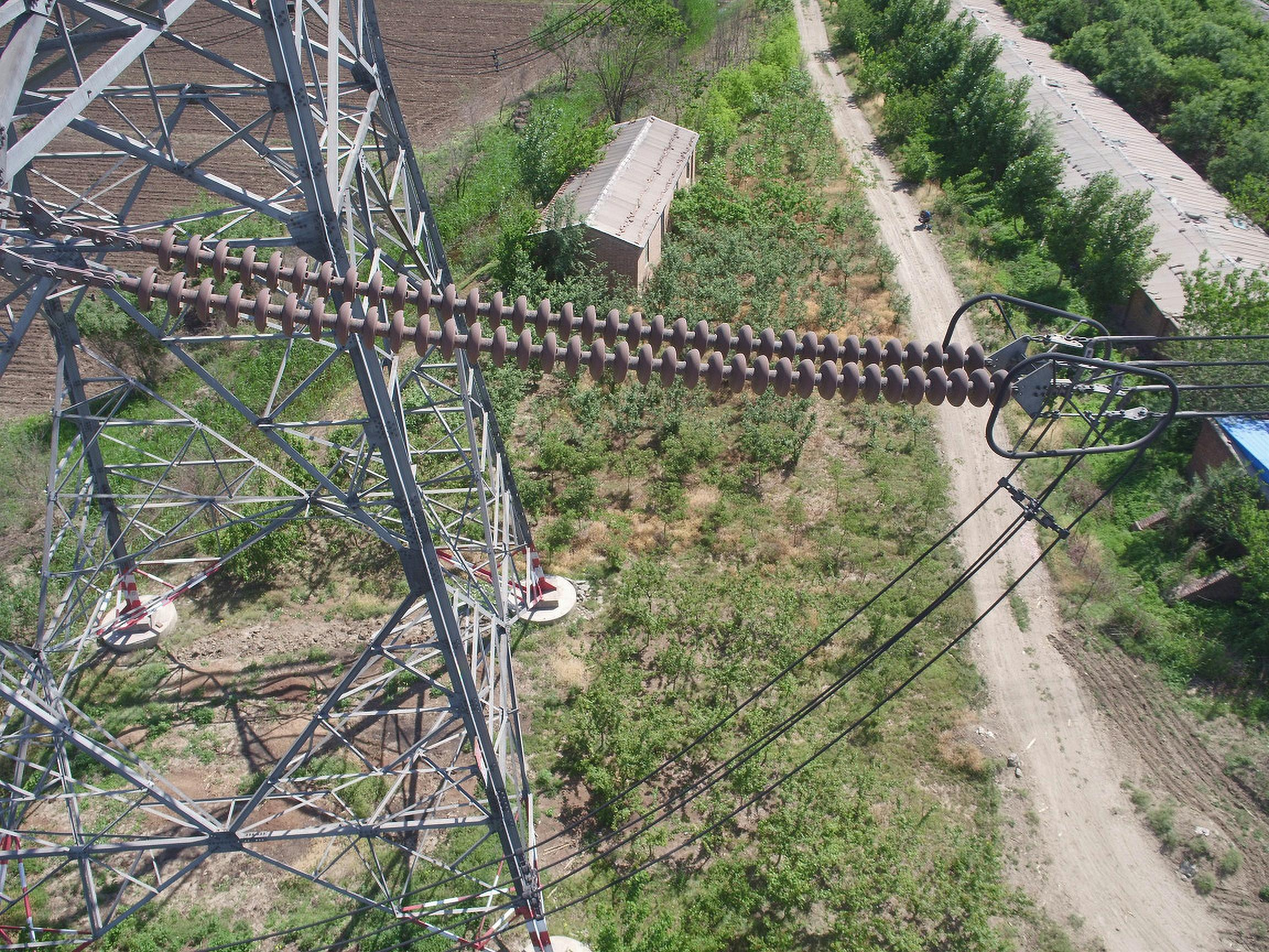insulator: (131, 223, 1017, 412)
